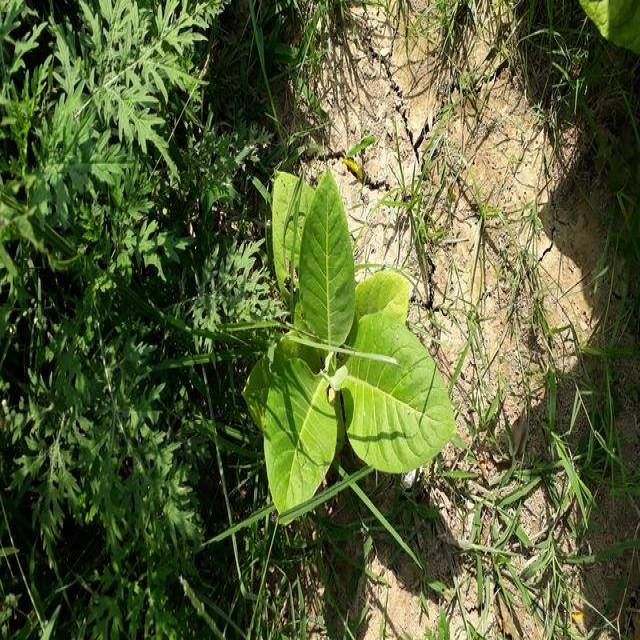crop: (272, 171, 455, 522)
